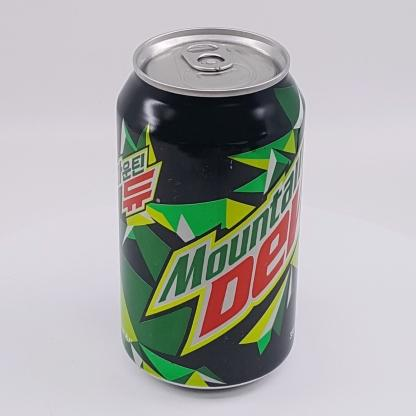------355ML: (116, 27, 306, 389)
